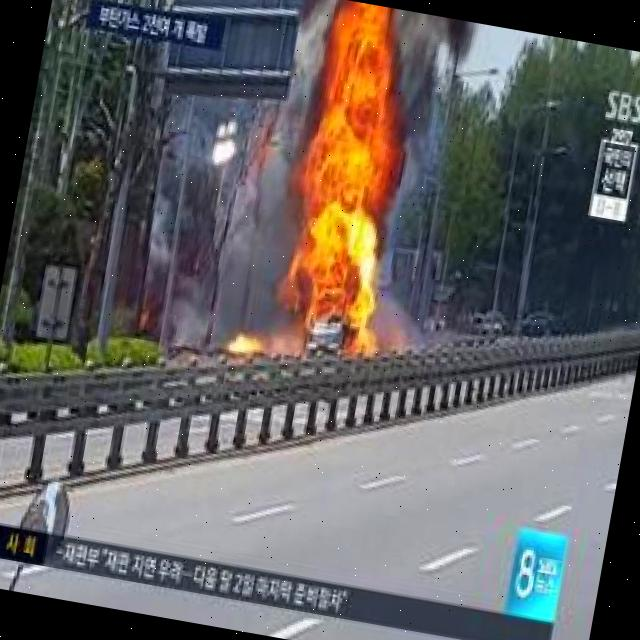fire: (286, 50, 412, 339), (230, 332, 268, 356)
